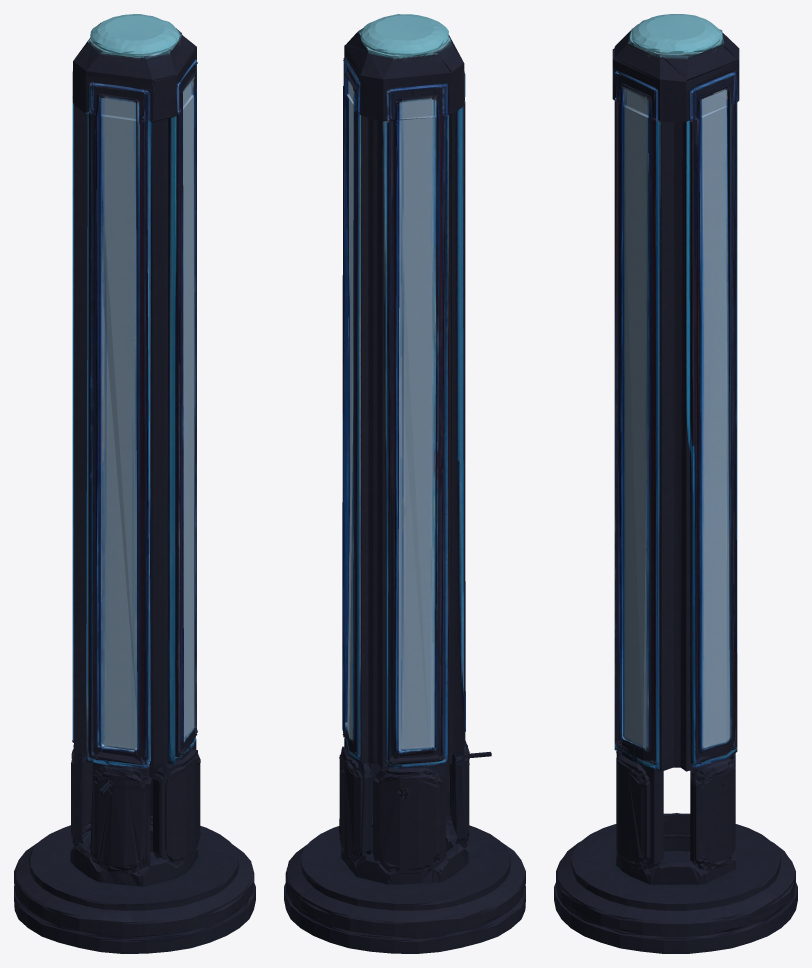
The model's file is knd_lamp_neon_01.glb.glb.
The picture shows the model from 3 angles, left to right: view 1: azimuth 30°, elevation 25°; view 2: azimuth 150°, elevation 25°; view 3: azimuth 270°, elevation 25°; orthographic projection.
Visible parts, largest first — view 1: tripo_node_0404bf6f-847c-4239-b51a-e77ce3ef2613; view 2: tripo_node_0404bf6f-847c-4239-b51a-e77ce3ef2613; view 3: tripo_node_0404bf6f-847c-4239-b51a-e77ce3ef2613.
Boxes of the visible parts, box(x1,y1,x2,y2) form: tripo_node_0404bf6f-847c-4239-b51a-e77ce3ef2613: box(14, 14, 255, 953); tripo_node_0404bf6f-847c-4239-b51a-e77ce3ef2613: box(284, 14, 525, 953); tripo_node_0404bf6f-847c-4239-b51a-e77ce3ef2613: box(554, 14, 797, 953).
Bounding box in the file's own units: 0.252 × 0.998 × 0.252.
Materials: 1 (1 with a texture image).
